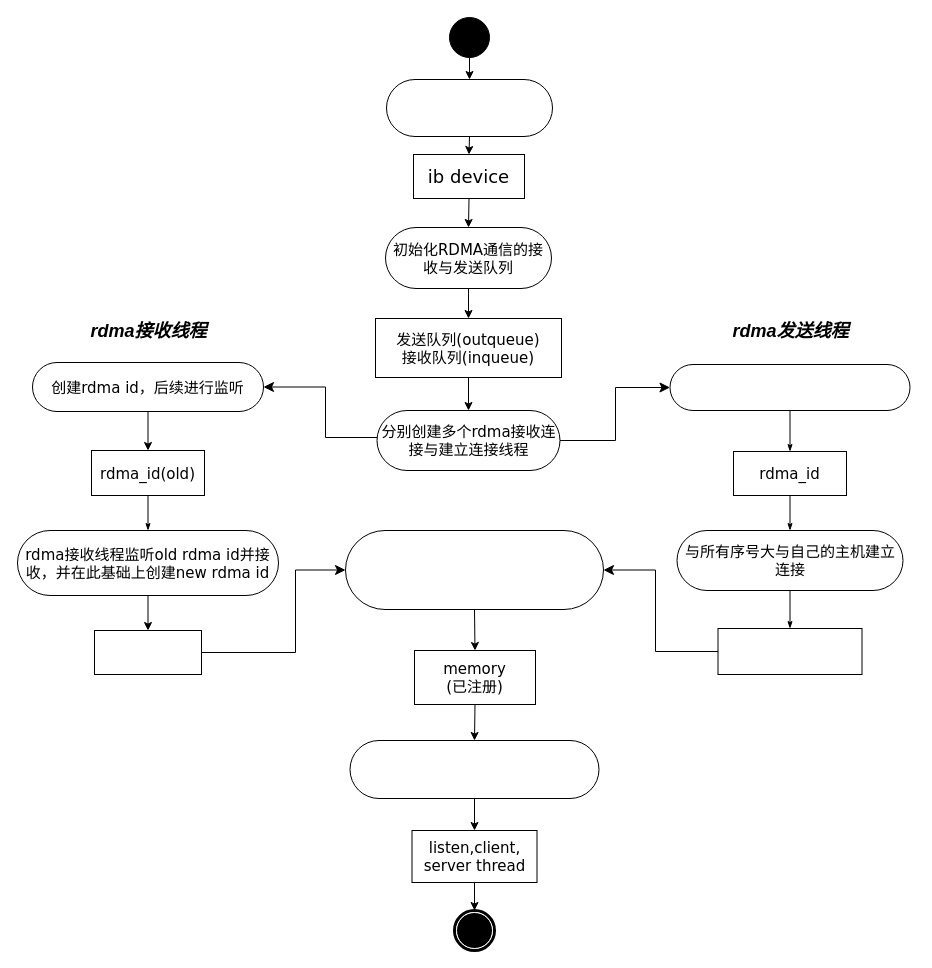
Some shapes in this 932 by 968 pixel diagram are drawn without their labels. The centre of each missing label's shape, as x and y in pixels:
"rdma_id(connected)" goes at (x=789, y=651).
"rdma_id(new)" goes at (x=148, y=652).
"创建rdma id， 后续进行连接" goes at (x=789, y=387).
"合并所有的接收与发送线程，并对RDMA需要用的的内存区域(如outqueue与inqueue)进行注册" goes at (x=474, y=570).
"开始进行RDMA通信，创建客户端发送，与服务端监听与处理线程" goes at (x=474, y=769).
"查询设备号 打开IB网卡设备" goes at (x=469, y=107).
